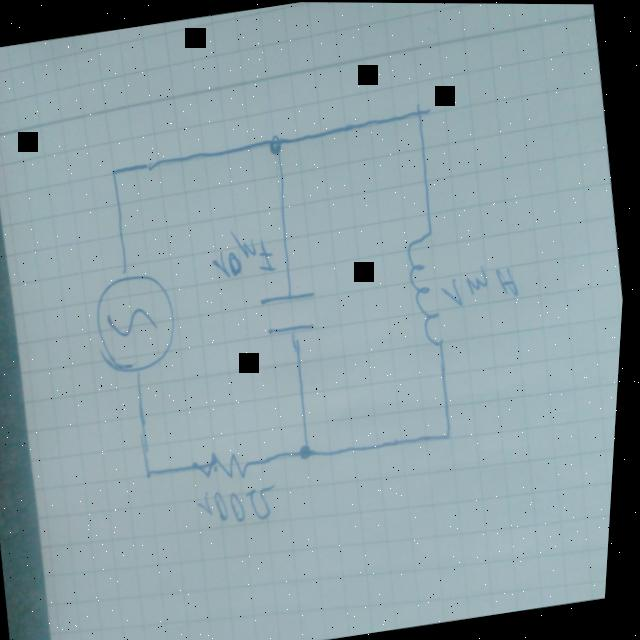capacitor: (258, 284, 325, 338)
inductor: (397, 224, 460, 352)
junction: (296, 432, 326, 467), (262, 130, 290, 159), (406, 98, 432, 126), (142, 457, 166, 487), (443, 420, 463, 445), (106, 161, 126, 185)
resistor: (189, 443, 259, 489)
source: (87, 266, 188, 379)
text: (195, 481, 286, 530), (207, 224, 281, 284), (439, 257, 526, 308)
